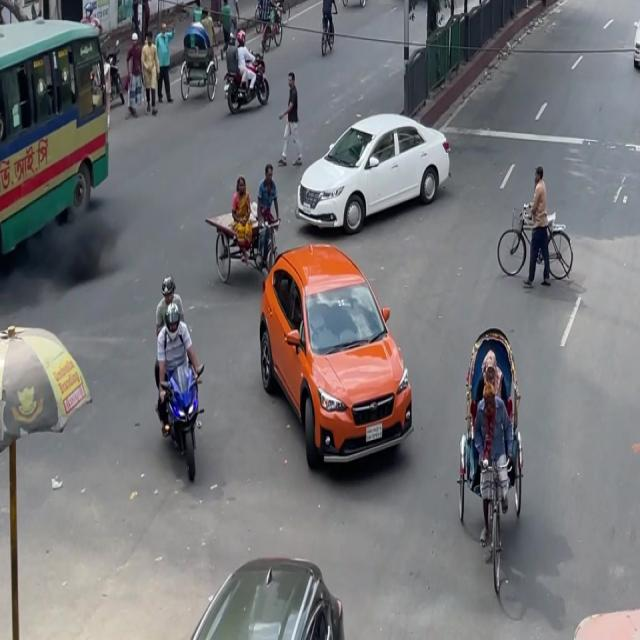bicycle: (497, 194, 577, 284), (257, 12, 290, 51), (320, 6, 340, 62)
bus: (0, 2, 120, 222)
car: (253, 239, 421, 480), (294, 110, 453, 232), (631, 0, 640, 73)
motorbike: (134, 260, 216, 503), (225, 48, 270, 121), (635, 41, 640, 132)
